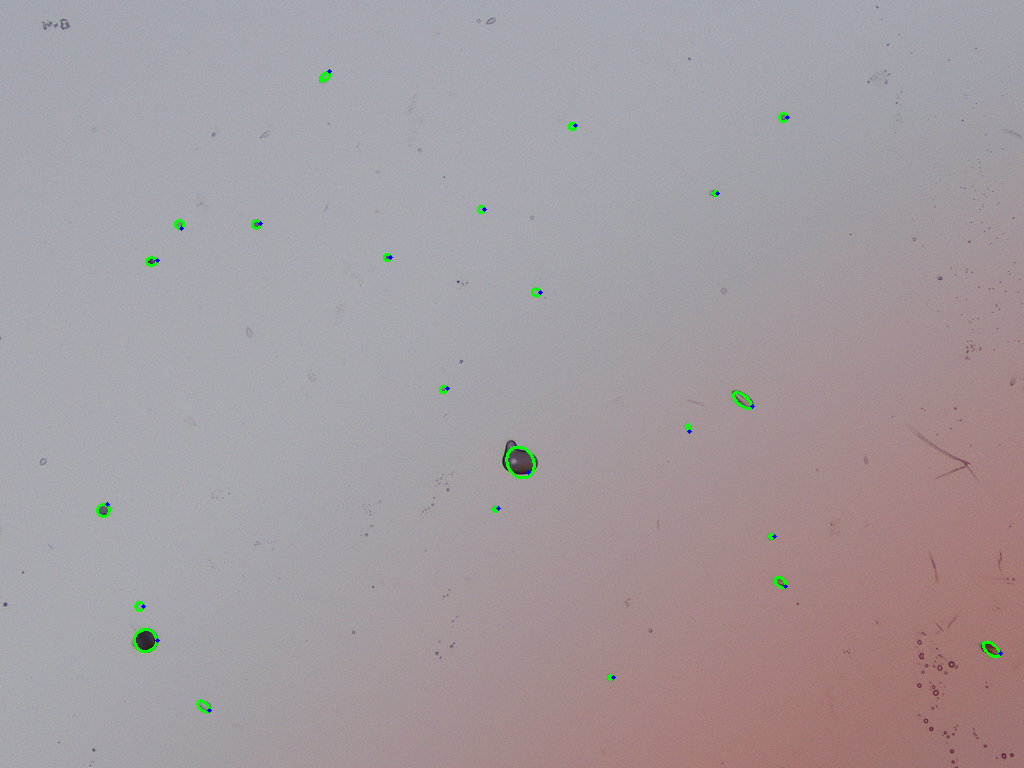circle: (133, 628, 157, 652), (531, 287, 540, 296), (251, 219, 260, 228), (134, 602, 143, 610), (779, 113, 787, 121), (440, 385, 447, 392), (569, 122, 575, 129), (477, 206, 484, 212), (384, 254, 390, 260), (607, 674, 613, 680), (492, 506, 498, 511), (768, 534, 774, 539), (712, 190, 717, 195)
ellipse: (731, 390, 754, 409), (980, 643, 1002, 655), (685, 424, 690, 431)
